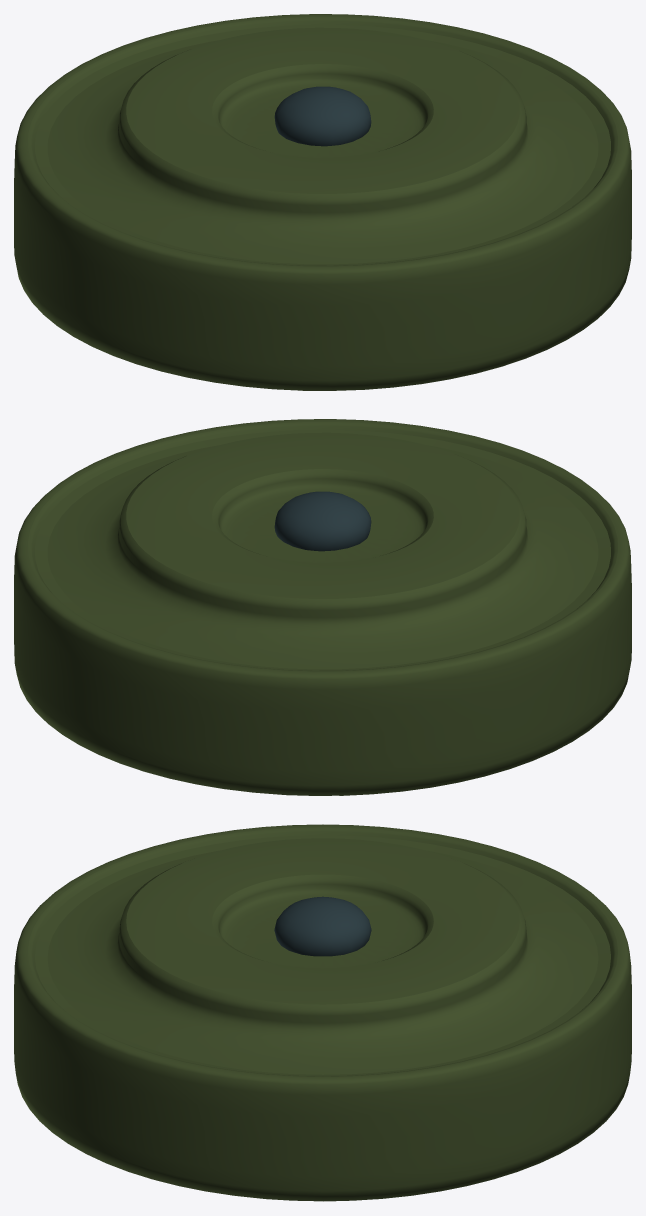
The model's file is mine.fbx.
The picture shows the model from 3 angles, top to bottom: view 1: azimuth 30°, elevation 25°; view 2: azimuth 150°, elevation 25°; view 3: azimuth 270°, elevation 25°; orthographic projection.
Parts seen in each view (by area): view 1: Main, Babah; view 2: Main, Babah; view 3: Main, Babah.
Part boxes in pixels (x1,y1,x2,y2): Main: [14, 14, 631, 390]; Babah: [274, 86, 371, 146]; Main: [14, 419, 631, 795]; Babah: [274, 491, 371, 551]; Main: [14, 824, 631, 1201]; Babah: [274, 896, 371, 956].
Bounding box in the file's own units: 199 × 62.25 × 199.
